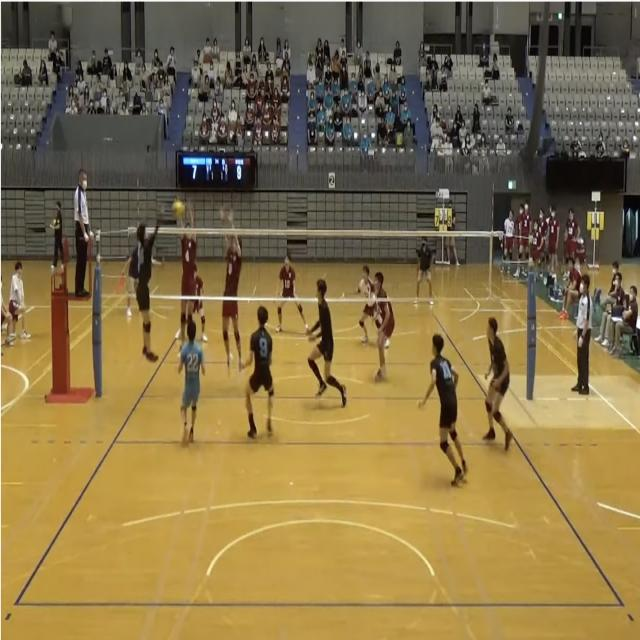spike: (134, 196, 170, 368)
